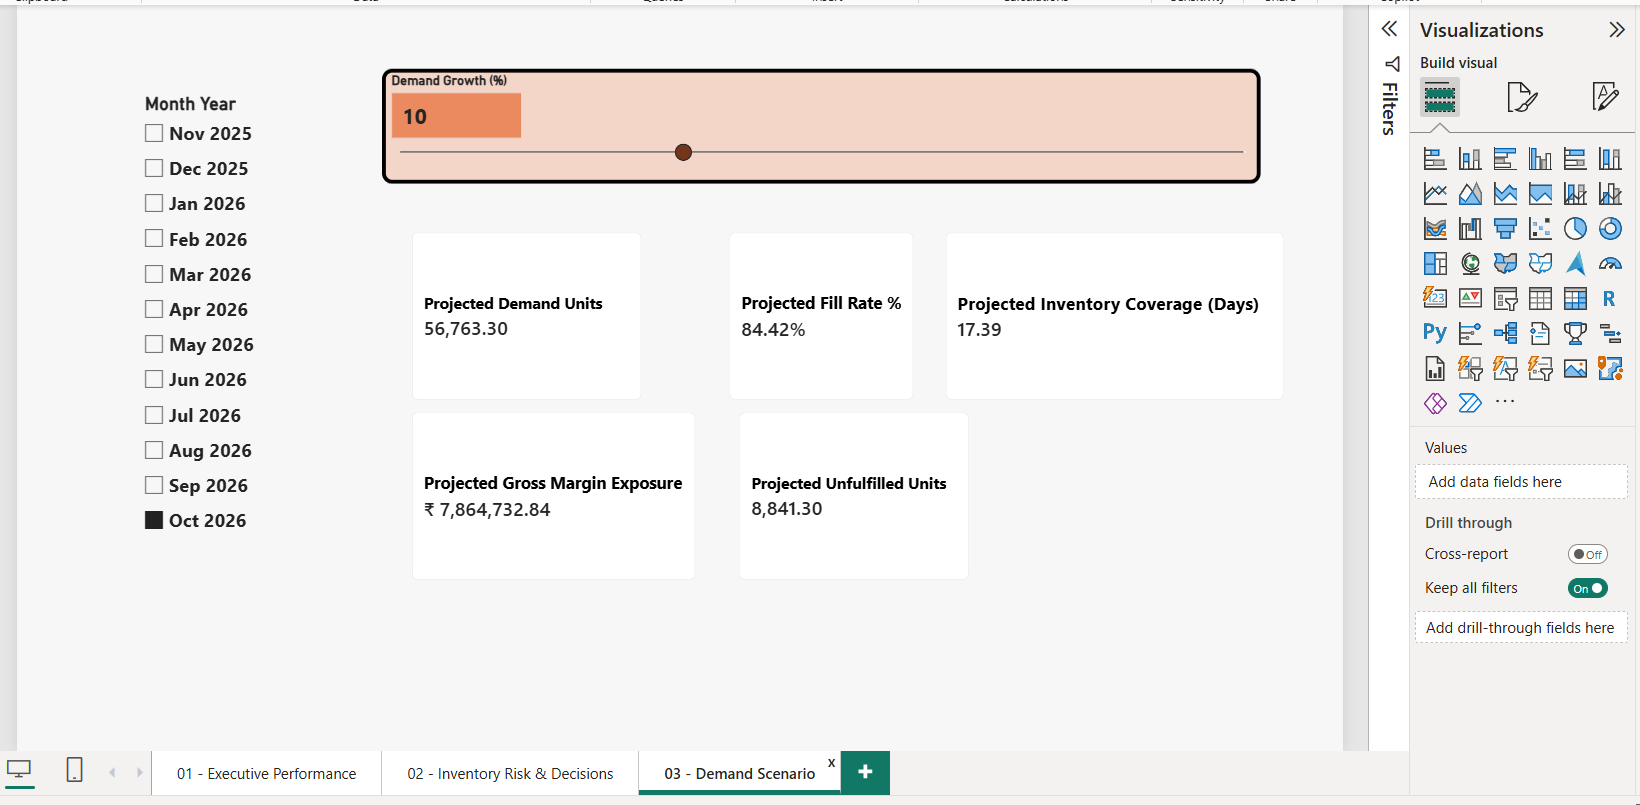

This screenshot's page, from the dashboard's own definition file:
{"tool":"powerbi","page":{"name":"03 - Demand Scenario ","canvas":[1920,1080],"ordinal":2},"visuals":[{"type":"slicer","fields":{"Values":["Demand Growth (%).Demand Growth (%)"]},"box":[528.6,92.4,1271.6,166.3],"z":0},{"type":"slicer","fields":{"Values":["DimDate.Month Year"]},"box":[177.4,127.5,210.7,646.9],"z":1},{"type":"cardVisual","fields":{"Data":["supply_chain_ai_db inventory.Projected Demand Units"]},"box":[571.1,329,332.7,242.1],"z":2},{"type":"cardVisual","fields":{"Data":["supply_chain_ai_db inventory.Projected Fill Rate %"]},"box":[1031.3,329,266.2,242.1],"z":3},{"type":"cardVisual","fields":{"Data":["supply_chain_ai_db inventory.Projected Inventory Coverage (Days)"]},"box":[1343.7,329,489.8,242.1],"z":4},{"type":"cardVisual","fields":{"Data":["supply_chain_ai_db inventory.Projected Unfulfilled Units"]},"box":[1046.1,589.6,332.7,242.1],"z":5},{"type":"cardVisual","fields":{"Data":["supply_chain_ai_db inventory.Projected Gross Margin Exposure"]},"box":[571.1,589.6,410.3,242.1],"z":6}]}

Visuals, with their boxes on the page's 1920x1080 design canvas (x1, y1, x2, y2). These are canvas units, not pixel positions in the 1640x805 screenshot, which may show the page scaled, cropped or inside an application window:
slicer - Demand Growth (%).Demand Growth (%): detection(529, 92, 1800, 259)
slicer - DimDate.Month Year: detection(177, 128, 388, 774)
cardVisual - supply_chain_ai_db inventory.Projected Demand Units: detection(571, 329, 904, 571)
cardVisual - supply_chain_ai_db inventory.Projected Fill Rate %: detection(1031, 329, 1298, 571)
cardVisual - supply_chain_ai_db inventory.Projected Inventory Coverage (Days): detection(1344, 329, 1834, 571)
cardVisual - supply_chain_ai_db inventory.Projected Unfulfilled Units: detection(1046, 590, 1379, 832)
cardVisual - supply_chain_ai_db inventory.Projected Gross Margin Exposure: detection(571, 590, 981, 832)
